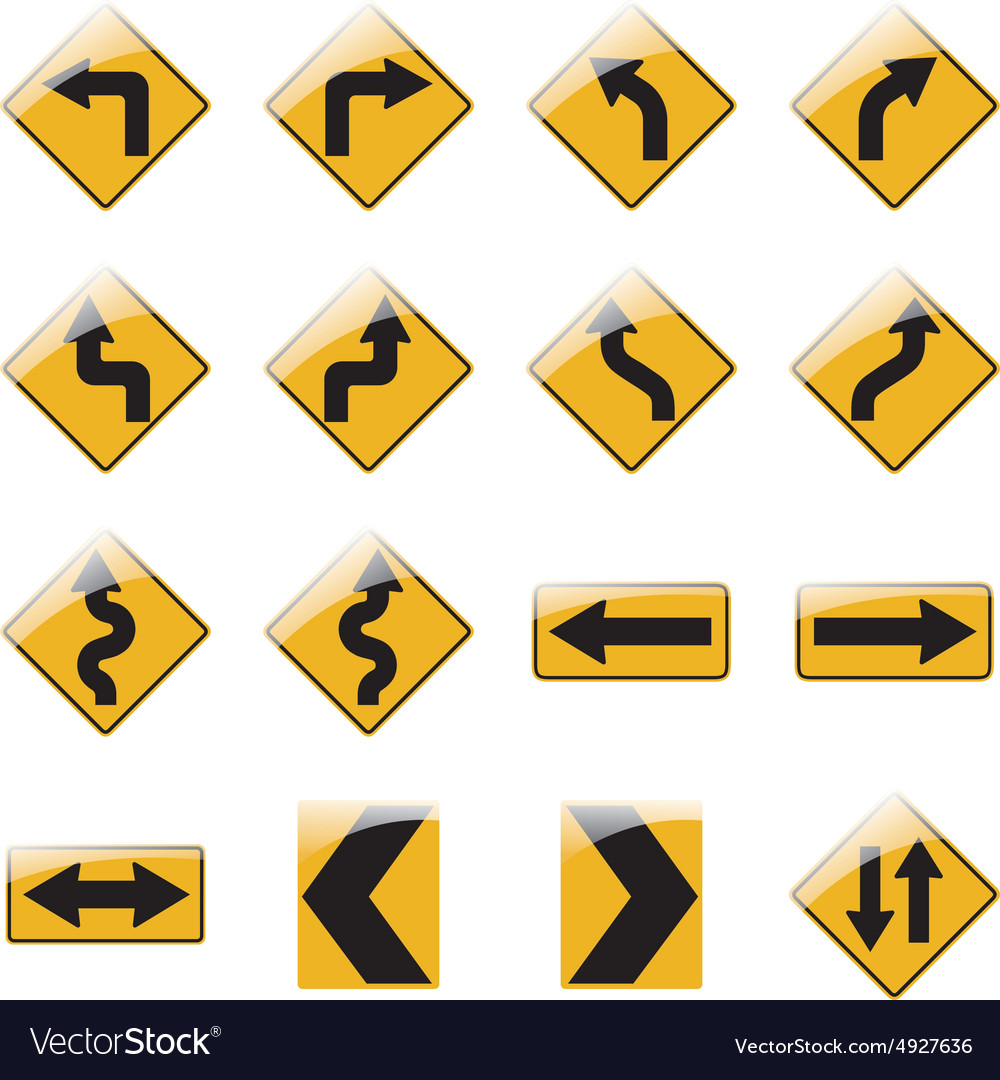left: (523, 1, 741, 216), (1, 1, 213, 216)
right: (780, 1, 1000, 214), (263, 2, 473, 217)
